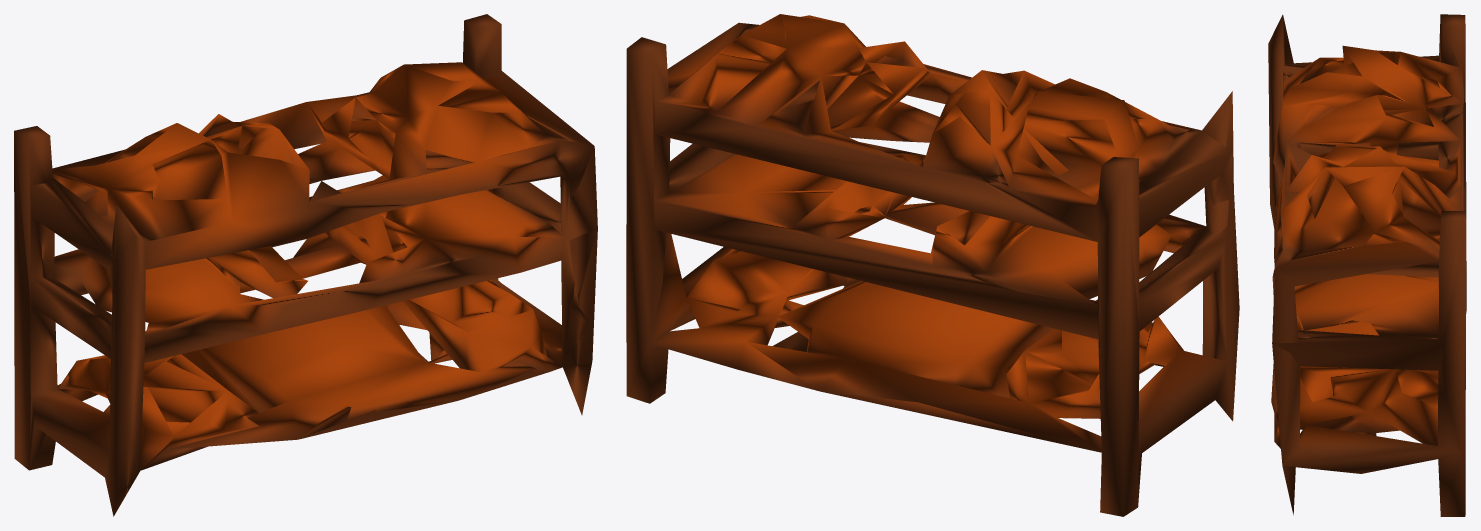
File: gen3d-bread-rack-lod1.glb
3 views of the same model, side by side, from view 1: azimuth 30°, elevation 25°; view 2: azimuth 150°, elevation 25°; view 3: azimuth 270°, elevation 25° (orthographic). The views are drawn at different scales.
Visible parts, largest first — view 1: part_0; view 2: part_0; view 3: part_0.
Part boxes in pixels (x1,y1,x2,y2): part_0: (14, 14, 597, 516); part_0: (626, 14, 1239, 516); part_0: (1268, 14, 1466, 516).
Size of the model in its own units: 1.47 by 0.9905 by 0.5926.
